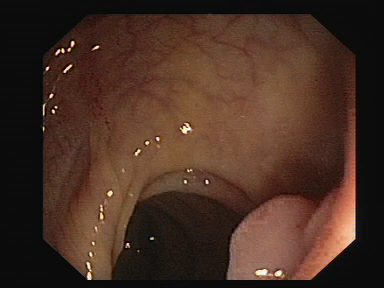polyp: (174, 184, 341, 280)
